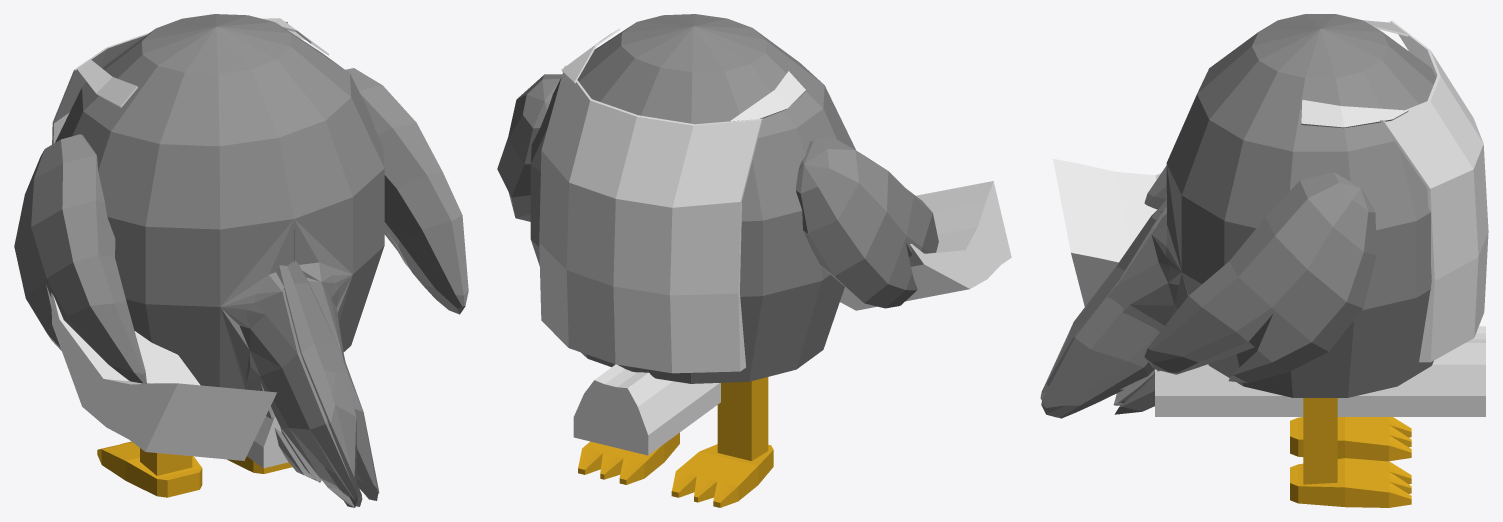
Rendered from PombSemCabeçaDj.fbx.
3 views of the same model, side by side, from view 1: azimuth 30°, elevation 25°; view 2: azimuth 150°, elevation 25°; view 3: azimuth 270°, elevation 25° (orthographic). The views are drawn at different scales.
Parts seen in each view (by area): view 1: Sphere.006, Sphere.004, Cube.005, Sphere.005, Cube.007, Cube.004, Cube.002, Cube.006; view 2: Cube.002, Sphere.006, Sphere.004, Cube.006, Cube.005, Cube.007, Cube.004; view 3: Sphere.006, Sphere.004, Cube.002, Cube.006, Sphere.005, Cube.005, Cube.007, Cube.004.
Boxes of the visible parts, x1=… form: Sphere.006: x1=55, y1=14, x2=384, y2=507; Sphere.004: x1=14, y1=68, x2=468, y2=383; Cube.005: x1=51, y1=293, x2=276, y2=460; Sphere.005: x1=276, y1=260, x2=379, y2=506; Cube.007: x1=97, y1=441, x2=292, y2=497; Cube.004: x1=77, y1=18, x2=328, y2=107; Cube.002: x1=52, y1=21, x2=287, y2=144; Cube.006: x1=247, y1=411, x2=288, y2=468; Cube.002: x1=539, y1=65, x2=762, y2=373; Sphere.006: x1=530, y1=14, x2=856, y2=460; Sphere.004: x1=497, y1=74, x2=938, y2=308; Cube.006: x1=573, y1=364, x2=720, y2=455; Cube.005: x1=840, y1=181, x2=1011, y2=310; Cube.007: x1=578, y1=432, x2=773, y2=507; Cube.004: x1=561, y1=28, x2=805, y2=121; Sphere.006: x1=1040, y1=14, x2=1436, y2=484; Sphere.004: x1=1144, y1=165, x2=1376, y2=383; Cube.002: x1=1380, y1=21, x2=1488, y2=362; Cube.006: x1=1155, y1=326, x2=1485, y2=416; Sphere.005: x1=1040, y1=200, x2=1166, y2=418; Cube.005: x1=1053, y1=158, x2=1160, y2=306; Cube.007: x1=1290, y1=417, x2=1411, y2=507; Cube.004: x1=1301, y1=20, x2=1408, y2=128.
Bounding box in the file's own units: 299 × 314 × 289.
